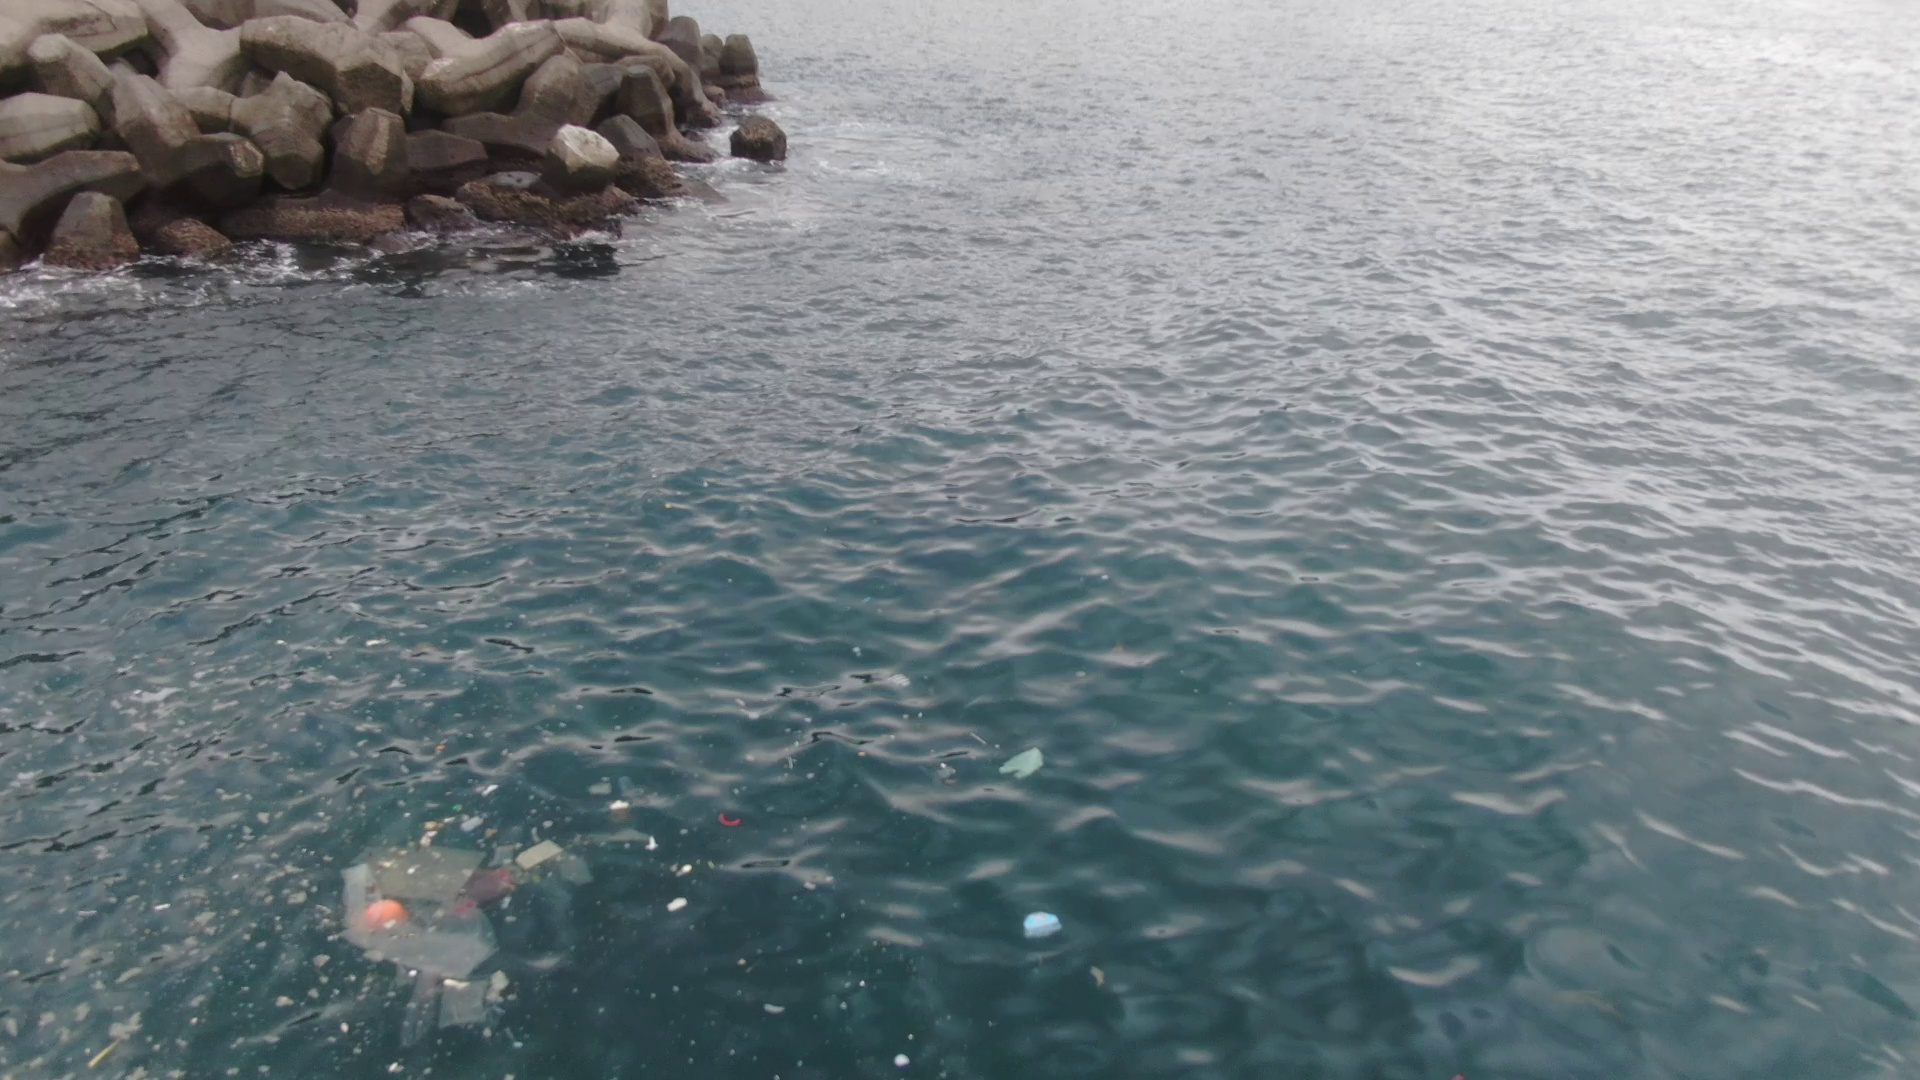garbage: (258, 717, 669, 1080), (1018, 899, 1079, 952), (992, 742, 1058, 785)
